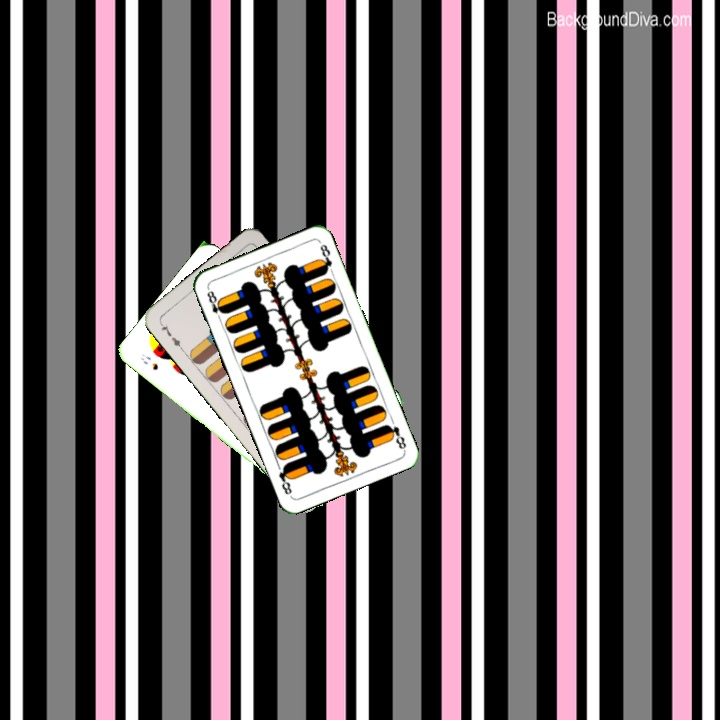E7: (156, 318, 185, 353)
E8: (203, 287, 228, 323), (382, 420, 409, 453)
S8: (136, 350, 161, 373)
